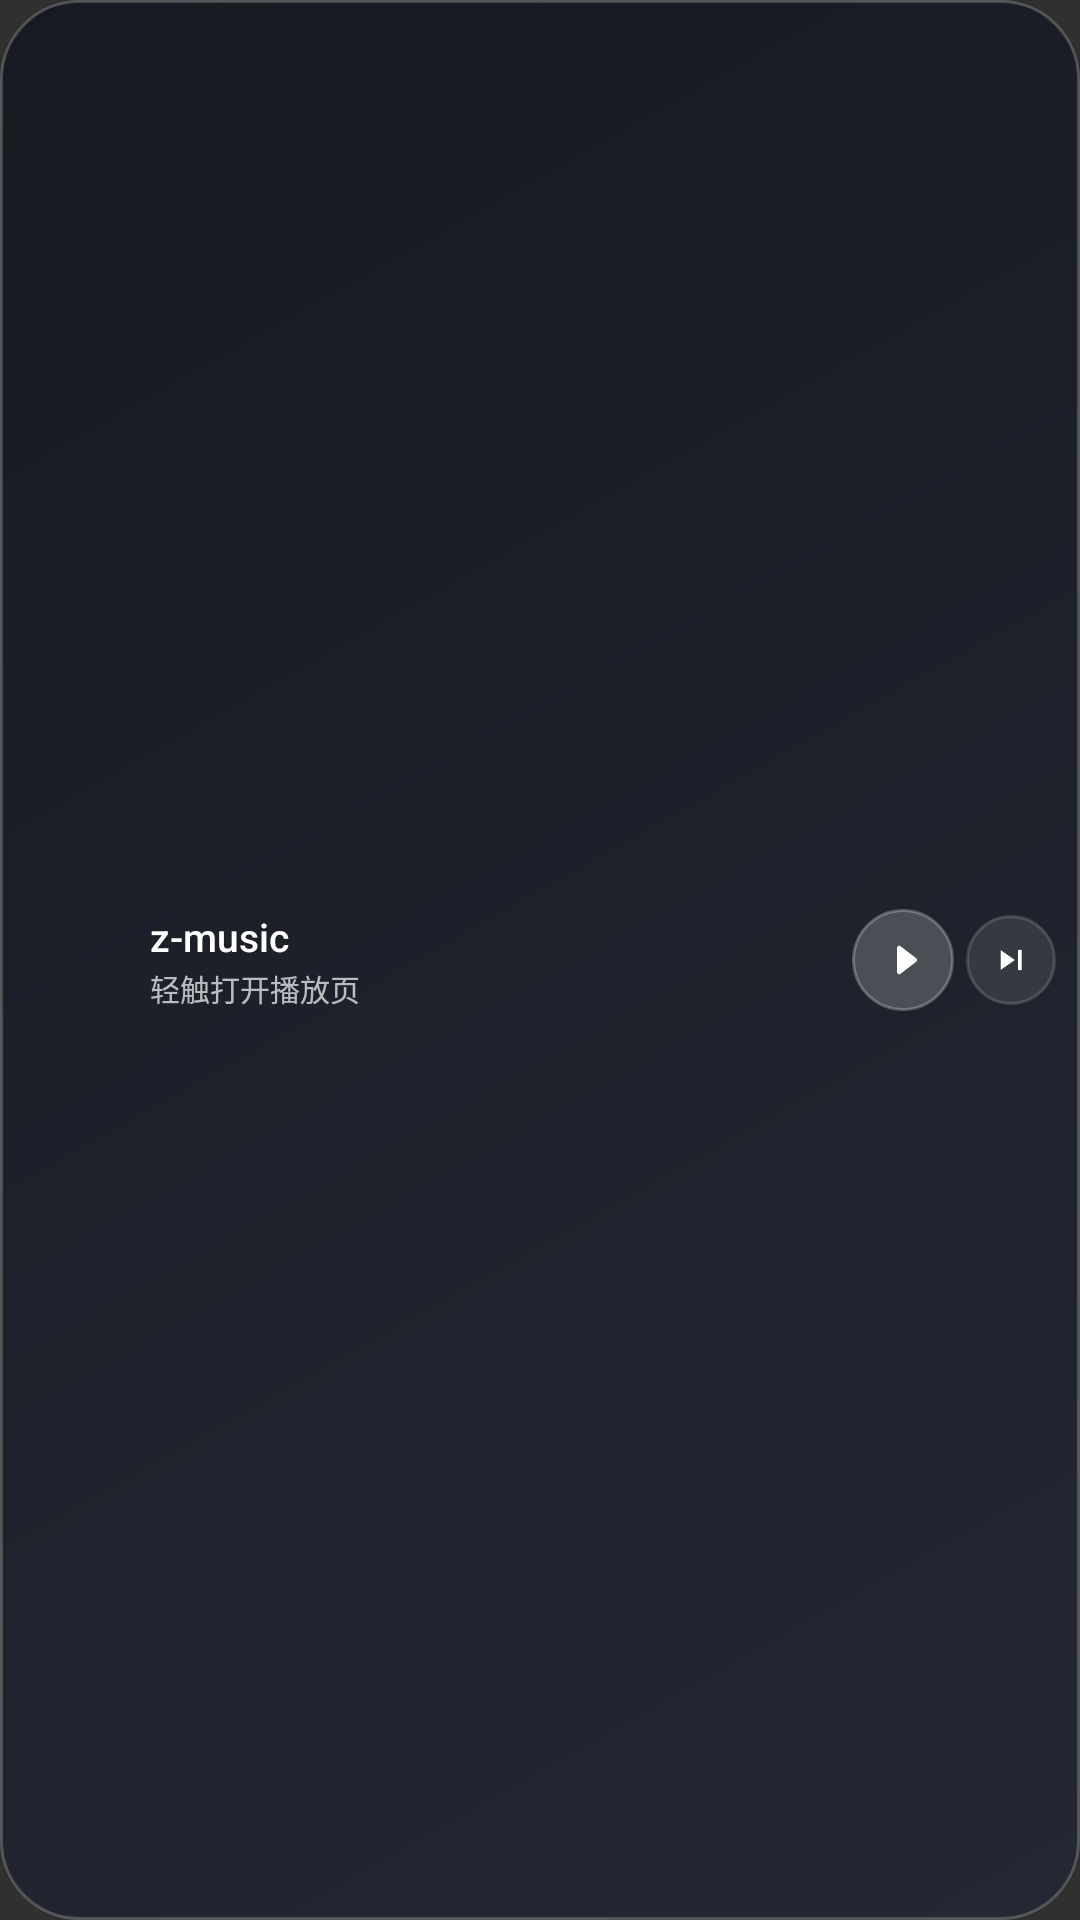

Icons on this 1080 x 1920 Android screen, each with its box as [x1=x1, y1=y1, x2=x2, y2=y2]:
下一首: [x1=966, y1=915, x2=1056, y2=1005]
